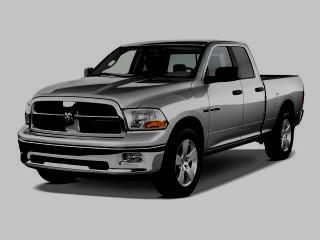ram: (60, 106, 77, 125)
